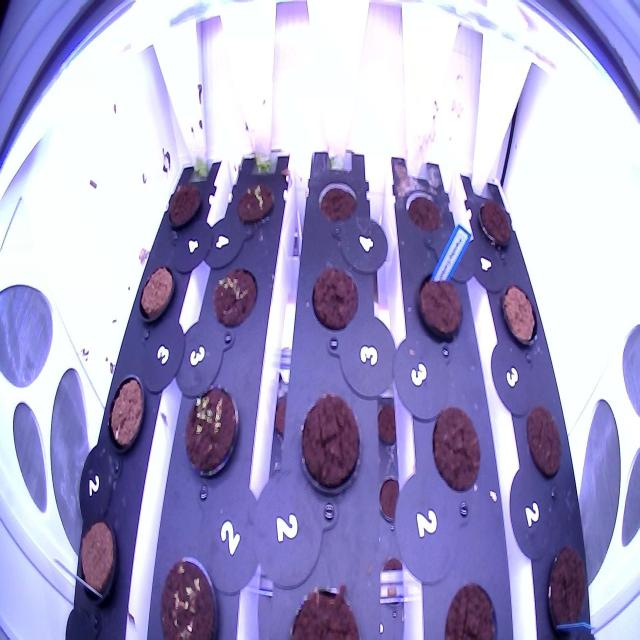germination: (182, 374, 242, 488), (156, 546, 224, 640), (209, 258, 260, 332), (233, 174, 277, 230)
pod: (297, 389, 364, 502), (284, 567, 364, 639), (427, 400, 484, 498), (540, 536, 593, 639), (411, 262, 466, 348), (72, 512, 122, 606), (306, 257, 361, 340), (437, 567, 499, 639), (522, 396, 566, 489), (107, 366, 149, 460), (497, 280, 540, 358), (135, 256, 179, 328), (473, 189, 517, 260), (402, 183, 448, 243), (314, 174, 360, 228), (165, 174, 204, 234)
